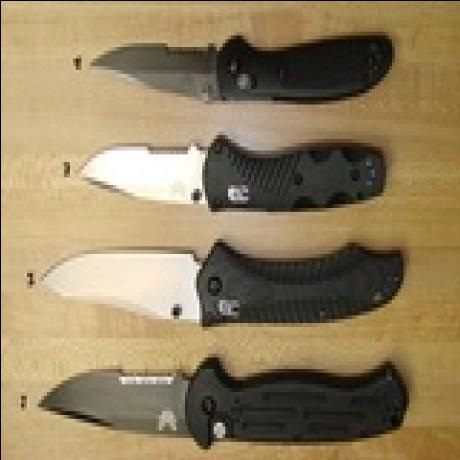weapon: (32, 237, 411, 338), (23, 354, 410, 452), (82, 25, 400, 112), (70, 138, 392, 215)
